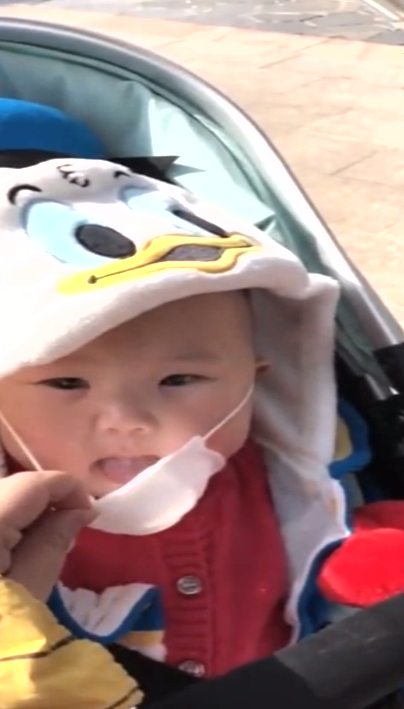mask_weared_incorrect: (1, 272, 280, 539)
